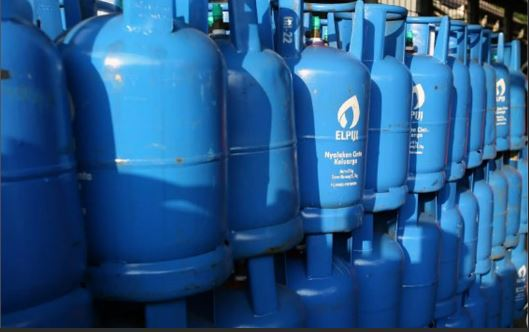blue_gas: (58, 1, 229, 299), (195, 1, 303, 257), (1, 1, 85, 304), (280, 1, 365, 233), (329, 5, 410, 214), (391, 17, 449, 193), (284, 236, 354, 332), (390, 194, 439, 331), (217, 258, 304, 332), (348, 219, 404, 332), (487, 32, 523, 160), (439, 181, 476, 302), (485, 163, 527, 265), (445, 18, 470, 183), (482, 240, 526, 331), (462, 21, 486, 170), (475, 162, 494, 278)
